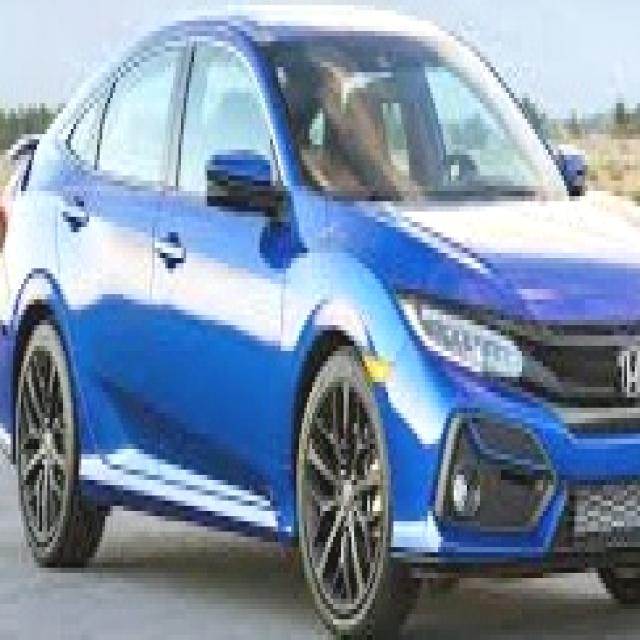blue: (2, 10, 640, 634)
